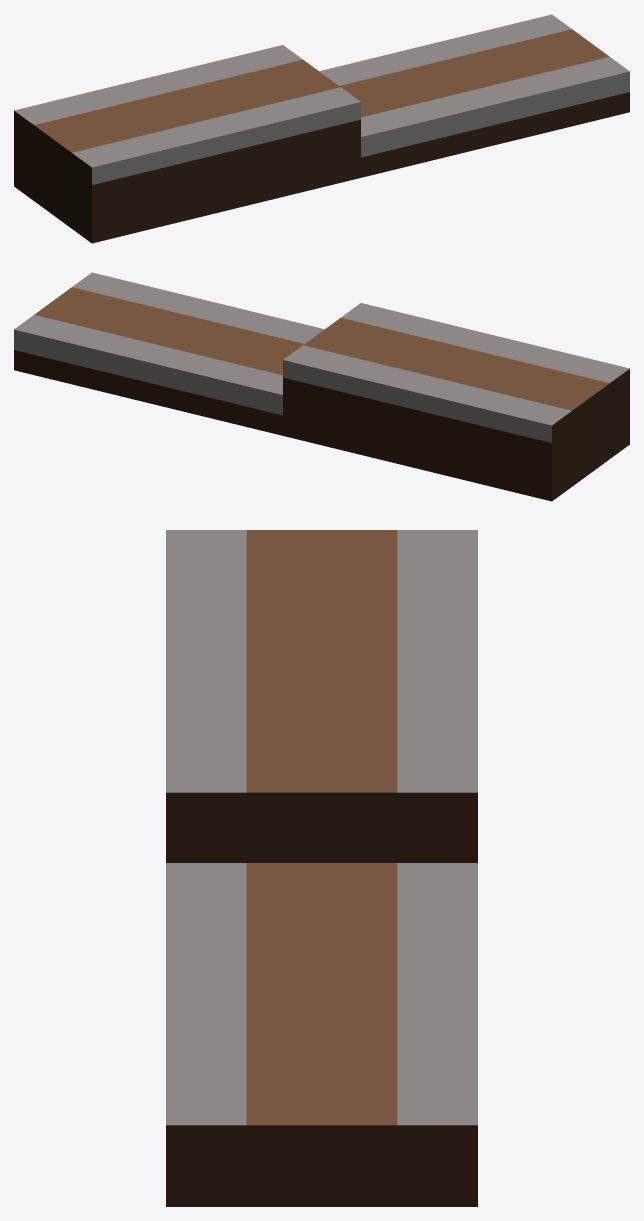
File: SkateboardLedgeBox.glb
3 renders of one model, top to bottom at view 1: azimuth 30°, elevation 25°; view 2: azimuth 150°, elevation 25°; view 3: azimuth 270°, elevation 25°, orthographic. The views are drawn at different scales.
Parts seen in each view (by area): view 1: SkateboardLedgeBox; view 2: SkateboardLedgeBox; view 3: SkateboardLedgeBox.
Boxes of the visible parts, box(x1,y1,x2,y2) form: SkateboardLedgeBox: box(14, 14, 629, 243); SkateboardLedgeBox: box(14, 272, 629, 501); SkateboardLedgeBox: box(166, 530, 477, 1206).
Bounding box in the file's own units: 8 × 1.08 × 2.01.
1 material, 1 textured.
